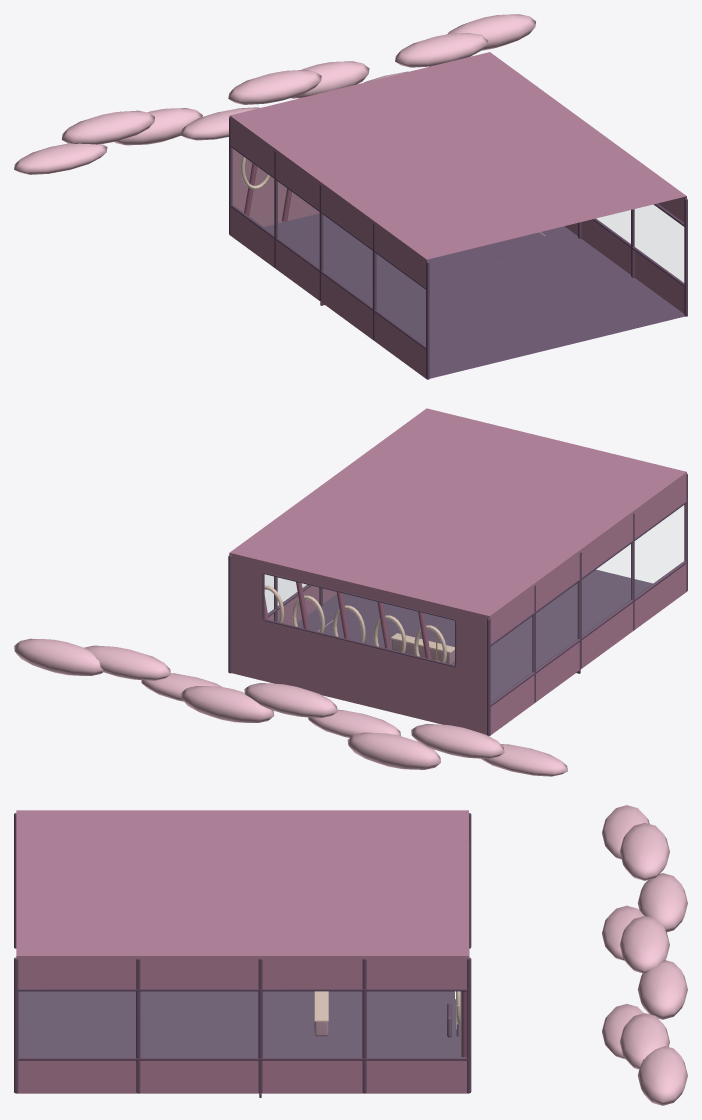
The model's file is cantina.glb.
3 views of the same model, one above another, from view 1: azimuth 30°, elevation 25°; view 2: azimuth 150°, elevation 25°; view 3: azimuth 270°, elevation 25° (orthographic). The views are drawn at different scales.
Parts seen in each view (by area): view 1: Roof panels - Wall, Floor extension - Floor, Outside the glazing - Glass rim, Port wall - Wall, Floor - Floor, Port wall - Rib, Starboard wall - Wall, Rear bulkhead - Wall, Starboard wall - Rib; view 2: Roof panels - Wall, Rear bulkhead - Wall, Outside the glazing - Glass rim, Port wall - Wall, Floor extension - Floor, Floor - Floor, Port wall - Rib, Signature architecture - Pale, Signature architecture - Accent, Rear bulkhead - Rib, Starboard wall - Wall, Starboard wall - Rib; view 3: Roof panels - Wall, Starboard wall - Wall, Outside the glazing - Glass rim, Floor extension - Floor, Floor - Floor, Starboard wall - Rib, Port wall - Rib, Counter - Pale.
Part boxes in pixels (left/top/right/bottom): Roof panels - Wall: left=230, top=52, right=686, bottom=259; Floor extension - Floor: left=355, top=238, right=684, bottom=378; Outside the glazing - Glass rim: left=14, top=14, right=535, bottom=174; Port wall - Wall: left=229, top=115, right=426, bottom=378; Floor - Floor: left=264, top=213, right=578, bottom=293; Port wall - Rib: left=229, top=117, right=429, bottom=379; Starboard wall - Wall: left=564, top=196, right=686, bottom=313; Rear bulkhead - Wall: left=232, top=149, right=319, bottom=226; Starboard wall - Rib: left=577, top=198, right=687, bottom=316; Roof panels - Wall: left=229, top=408, right=686, bottom=616; Rear bulkhead - Wall: left=229, top=553, right=489, bottom=734; Outside the glazing - Glass rim: left=14, top=638, right=567, bottom=776; Port wall - Wall: left=489, top=472, right=686, bottom=735; Floor extension - Floor: left=322, top=569, right=652, bottom=661; Floor - Floor: left=297, top=606, right=546, bottom=702; Port wall - Rib: left=487, top=473, right=687, bottom=736; Signature architecture - Pale: left=264, top=585, right=446, bottom=662; Signature architecture - Accent: left=264, top=582, right=431, bottom=659; Rear bulkhead - Rib: left=262, top=572, right=456, bottom=667; Starboard wall - Wall: left=268, top=585, right=336, bottom=625; Starboard wall - Rib: left=228, top=555, right=322, bottom=673; Roof panels - Wall: left=16, top=810, right=468, bottom=955; Starboard wall - Wall: left=16, top=956, right=468, bottom=1093; Outside the glazing - Glass rim: left=602, top=805, right=687, bottom=1105; Floor extension - Floor: left=18, top=991, right=258, bottom=1056; Floor - Floor: left=263, top=991, right=461, bottom=1056; Starboard wall - Rib: left=14, top=957, right=471, bottom=1093; Port wall - Rib: left=14, top=813, right=471, bottom=948; Counter - Pale: left=314, top=991, right=328, bottom=1021.
Size of the model in its own units: 39.7 by 8.75 by 37.53.
